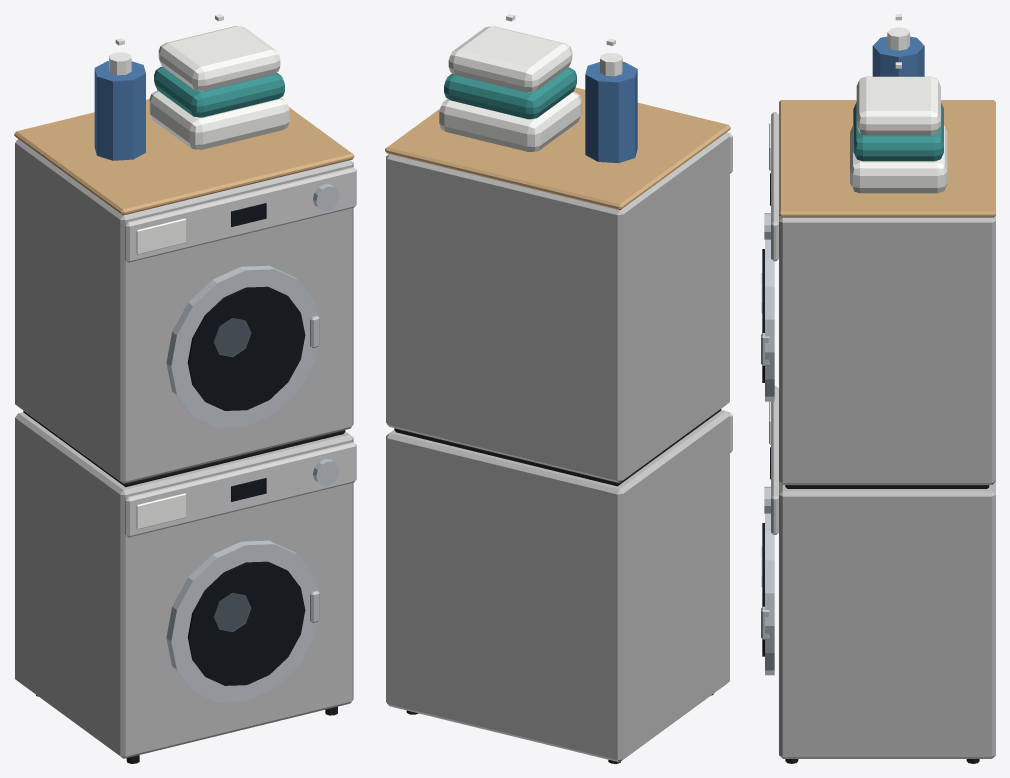
The model's file is washer_dryer_stack.glb.
3 renders of one model, left to right at view 1: azimuth 30°, elevation 25°; view 2: azimuth 150°, elevation 25°; view 3: azimuth 270°, elevation 25°, orthographic. The views are drawn at different scales.
Parts seen in each view (by area): view 1: washer_dryer_stack_Body; view 2: washer_dryer_stack_Body; view 3: washer_dryer_stack_Body.
Part boxes in pixels (left/top/right/bottom): washer_dryer_stack_Body: left=14, top=14, right=356, bottom=763; washer_dryer_stack_Body: left=385, top=14, right=732, bottom=763; washer_dryer_stack_Body: left=761, top=14, right=995, bottom=763.
Size of the model in its own units: 0.8 by 2.2 by 0.7.
